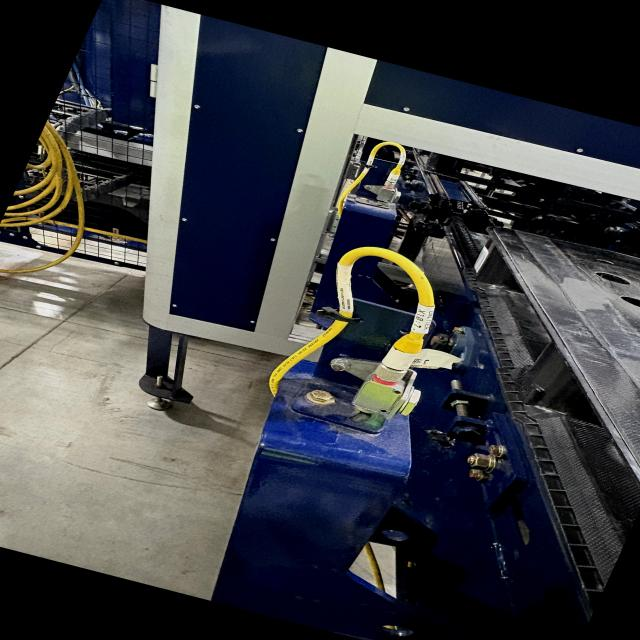igps: (463, 217, 640, 607)
